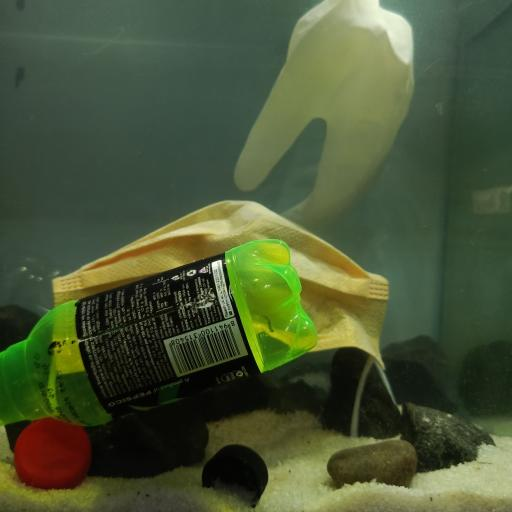bottle_cap: (14, 417, 90, 489), (202, 442, 270, 505)
glove: (233, 0, 416, 223)
mask: (53, 198, 393, 388)
plastic_bottle: (0, 237, 318, 429)
